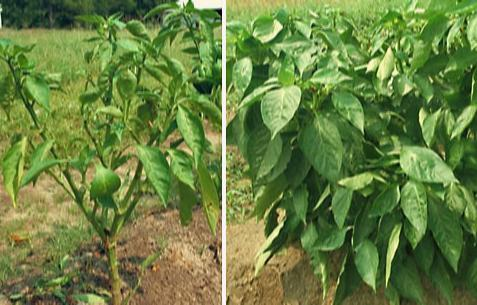Tomato leaf bacterial spot: (410, 178, 464, 271), (293, 106, 346, 180), (398, 144, 462, 188), (259, 81, 303, 142), (137, 143, 177, 210), (189, 153, 221, 235), (176, 96, 210, 167), (0, 132, 28, 214), (330, 89, 369, 141), (353, 233, 381, 293), (328, 176, 357, 233), (403, 179, 428, 238), (91, 164, 122, 211), (314, 221, 354, 256), (22, 72, 55, 112), (419, 105, 445, 145), (113, 42, 144, 56)
